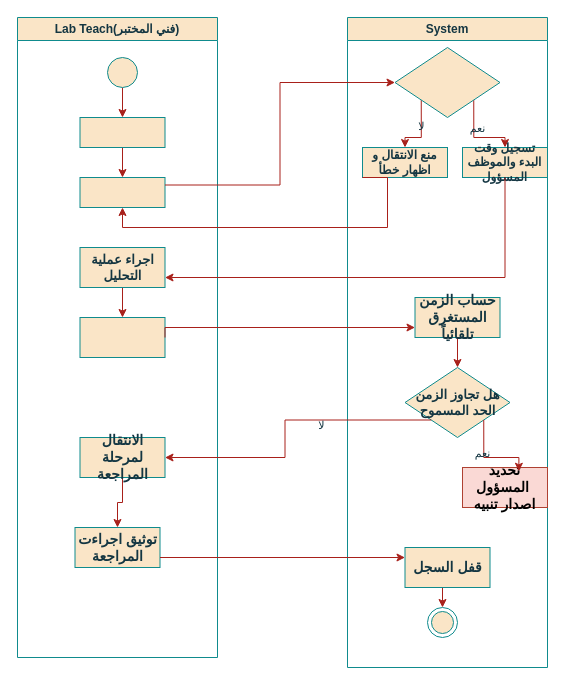
This 565x685 diagram has some shape labels left out. The box of each missing label's shape, as (x1, y1, x2, y2) in pixels:
استلام العينة: (79, 116, 165, 148)
بداية التتبع: (106, 56, 138, 88)
توثيق اجراءت التحليل: (79, 316, 165, 358)
توثيق الاستلام: (79, 176, 165, 208)
هل تم توثيق المرحلة السابقة: (394, 46, 500, 118)
